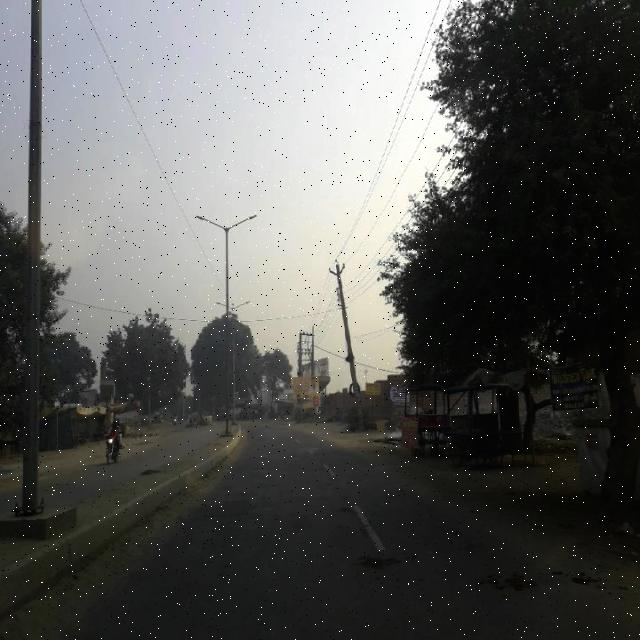D40: (353, 550, 404, 577)
